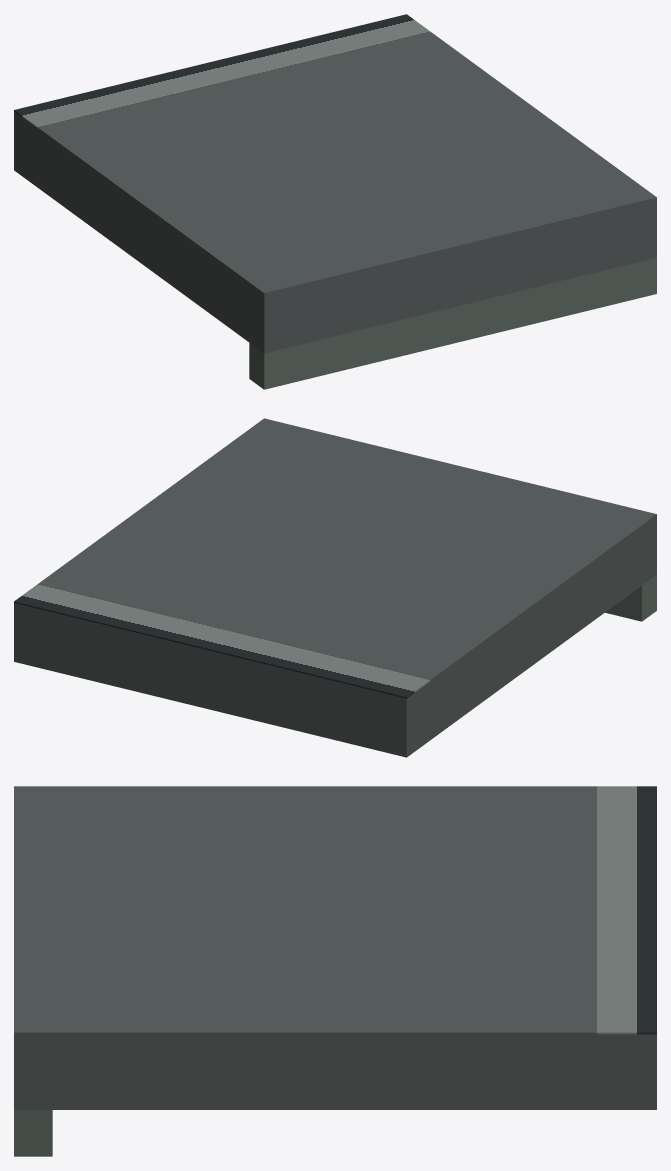
Rendered from CMU3DInteriorVehicleAPCWheelFrontTop2.glb.
3 views of the same model, one above another, from view 1: azimuth 30°, elevation 25°; view 2: azimuth 150°, elevation 25°; view 3: azimuth 270°, elevation 25° (orthographic). The views are drawn at different scales.
Parts seen in each view (by area): view 1: overhead armor source finish, overhead armor, inner roof rib; view 2: overhead armor source finish, overhead armor, inner roof rib; view 3: overhead armor source finish, overhead armor, inner roof rib.
Part boxes in pixels (x1=…): overhead armor source finish: x1=14, y1=14, x2=656, y2=294; overhead armor: x1=14, y1=111, x2=656, y2=353; inner roof rib: x1=249, y1=257, x2=656, y2=389; overhead armor source finish: x1=14, y1=418, x2=656, y2=698; overhead armor: x1=14, y1=516, x2=656, y2=757; inner roof rib: x1=605, y1=575, x2=656, y2=621; overhead armor source finish: x1=14, y1=786, x2=656, y2=1034; overhead armor: x1=14, y1=1034, x2=656, y2=1109; inner roof rib: x1=14, y1=1110, x2=52, y2=1156.
Bounding box in the file's own units: 0.9062 × 0.213 × 1.
Materials: 3 (1 with a texture image).
